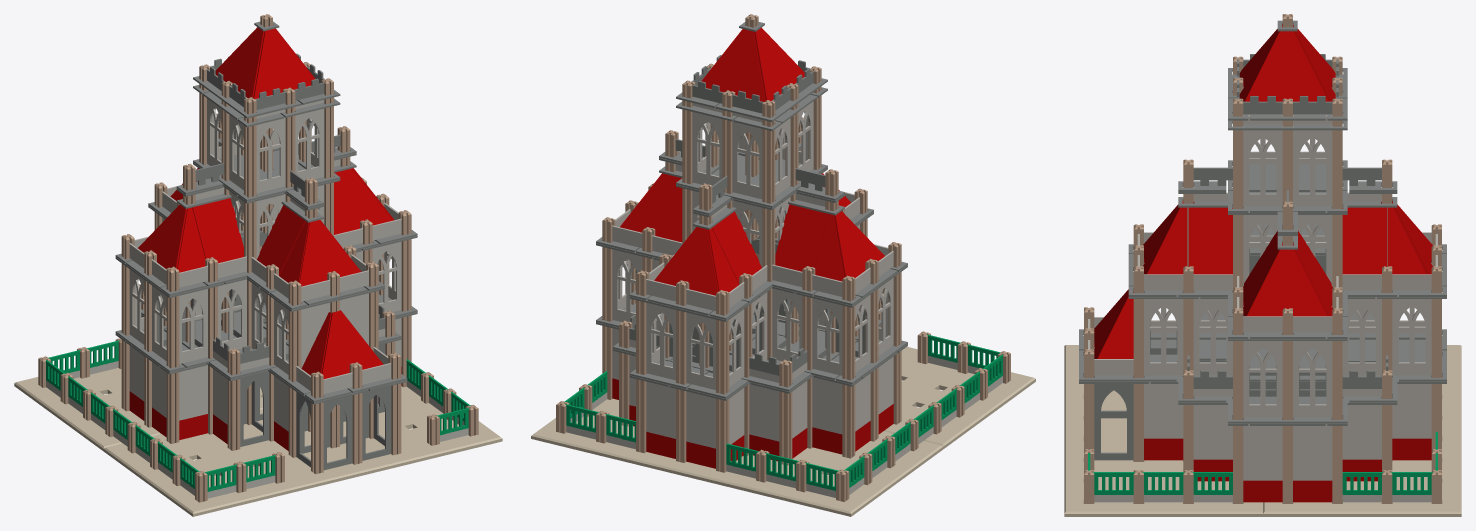
File: Moubal_4-73.glb
3 renders of one model, left to right at view 1: azimuth 30°, elevation 25°; view 2: azimuth 150°, elevation 25°; view 3: azimuth 270°, elevation 25°, orthographic. The views are drawn at different scales.
Parts seen in each view (by area): view 1: world; view 2: world; view 3: world.
Boxes of the visible parts, box(x1,y1,x2,y2) form: world: box(14, 14, 502, 516); world: box(531, 14, 1035, 516); world: box(1064, 14, 1461, 516).
Size of the model in its own units: 0.384 by 0.456 by 0.384.
